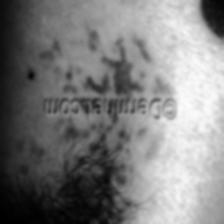Toxin: (62, 31, 168, 96), (61, 119, 148, 170)
